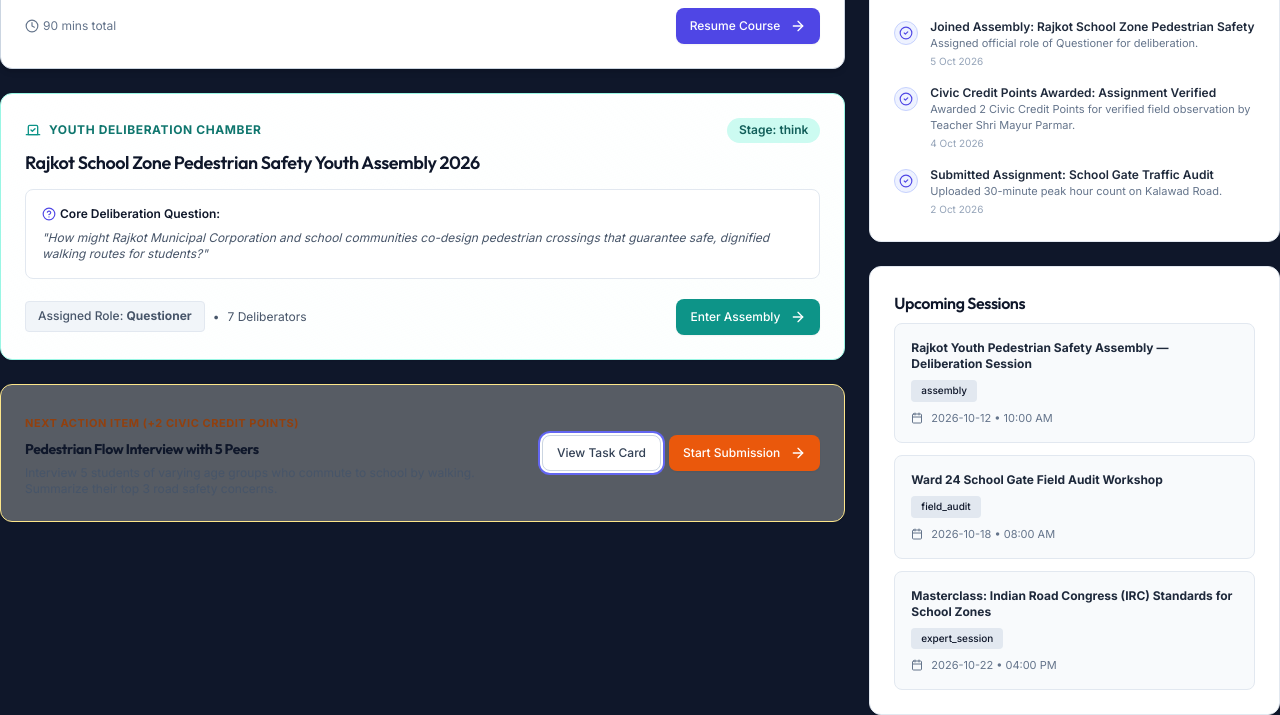
Test case: Accessible pop-up task card for general civic assignments (§A11.1, §A20.3) › opens from the dashboard, provides accessible name with assignment title, shows rubric, status, and deep link
(page scrolled)
Click the button "View Task Card" at (601, 452), box [542,434,661,470]
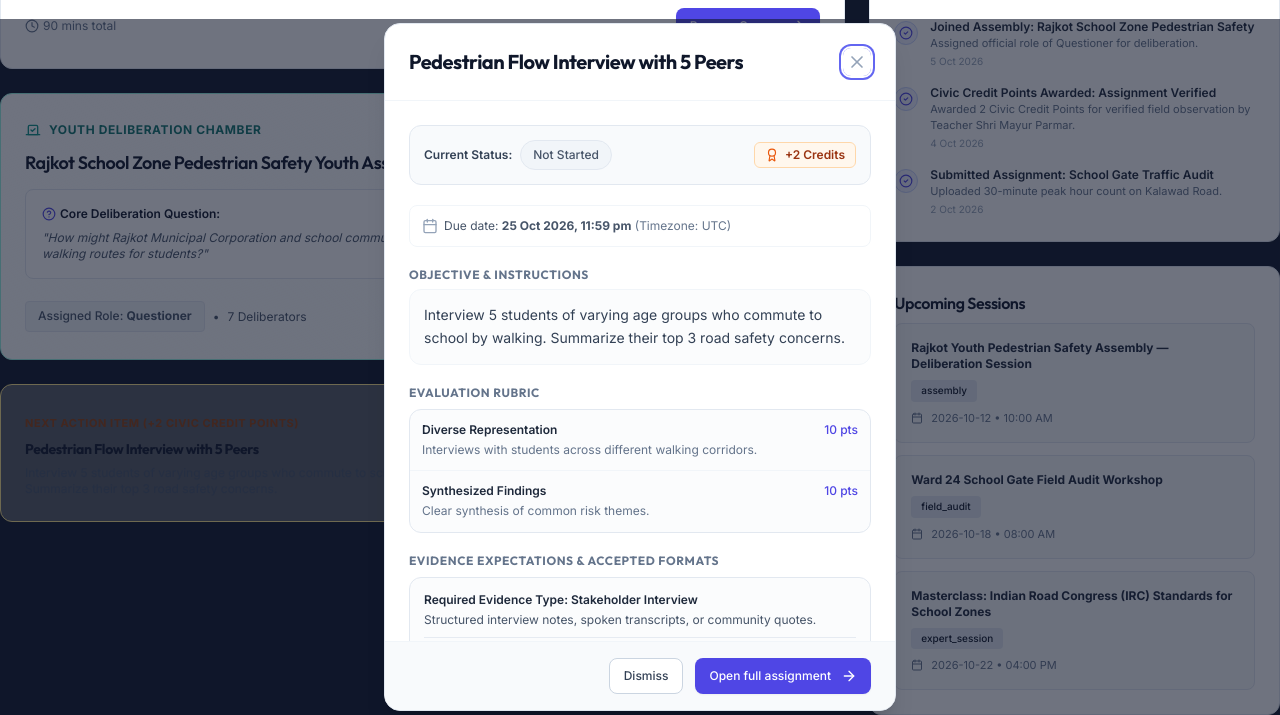
Expected: the dialog "Pedestrian Flow Interview with 5 Peers" is shown
Expected: the text "Diverse Representation" is shown, [422,422,557,438]
Expected: the text "Synthesized Findings" is shown, [422,483,546,499]
